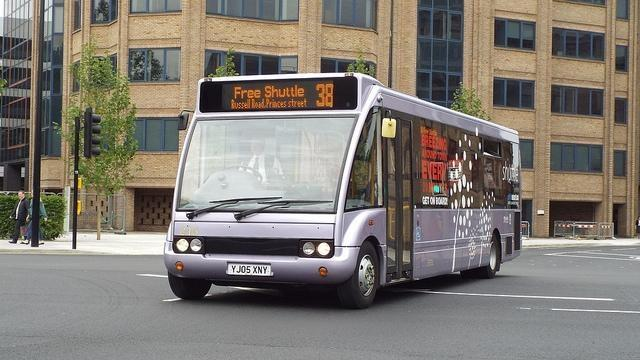bus: (161, 72, 523, 309)
